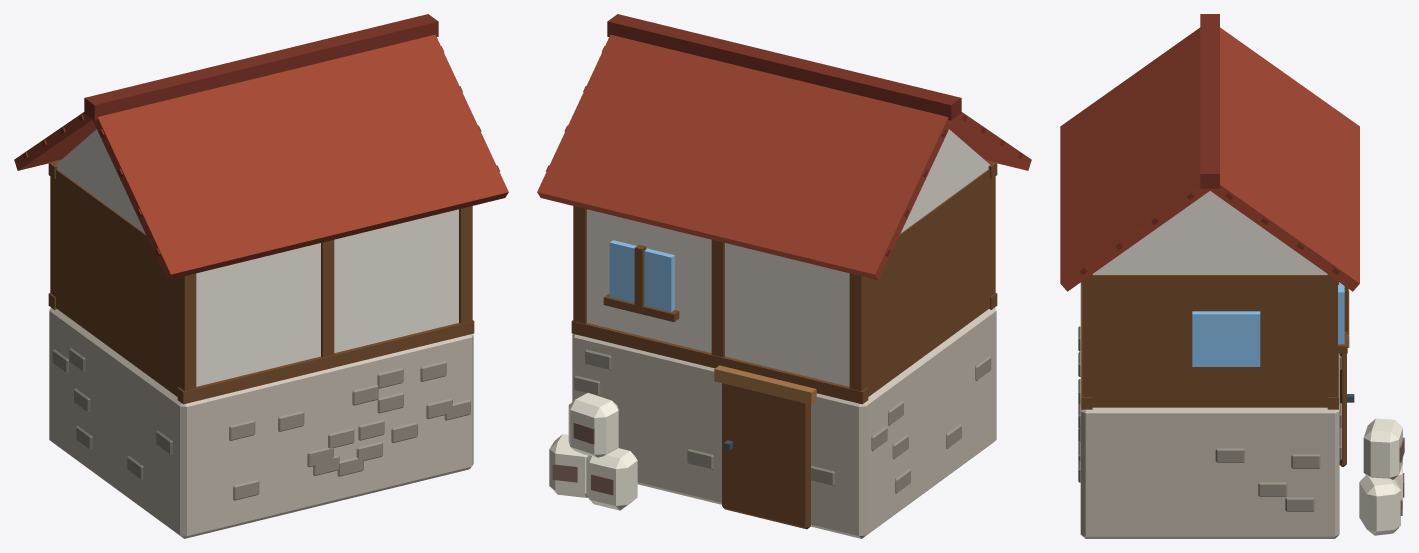
The model's file is Degirmen_Bina.fbx.
3 renders of one model, left to right at view 1: azimuth 30°, elevation 25°; view 2: azimuth 150°, elevation 25°; view 3: azimuth 270°, elevation 25°, orthographic. The views are drawn at different scales.
Parts seen in each view (by area): view 1: Degirmen_Bina; view 2: Degirmen_Bina; view 3: Degirmen_Bina.
Part boxes in pixels (box(x1,y1,x2,y2)): Degirmen_Bina: box(14, 14, 508, 538); Degirmen_Bina: box(537, 14, 1031, 538); Degirmen_Bina: box(1060, 14, 1404, 538).
Size of the model in its own units: 234 by 258 by 213.
